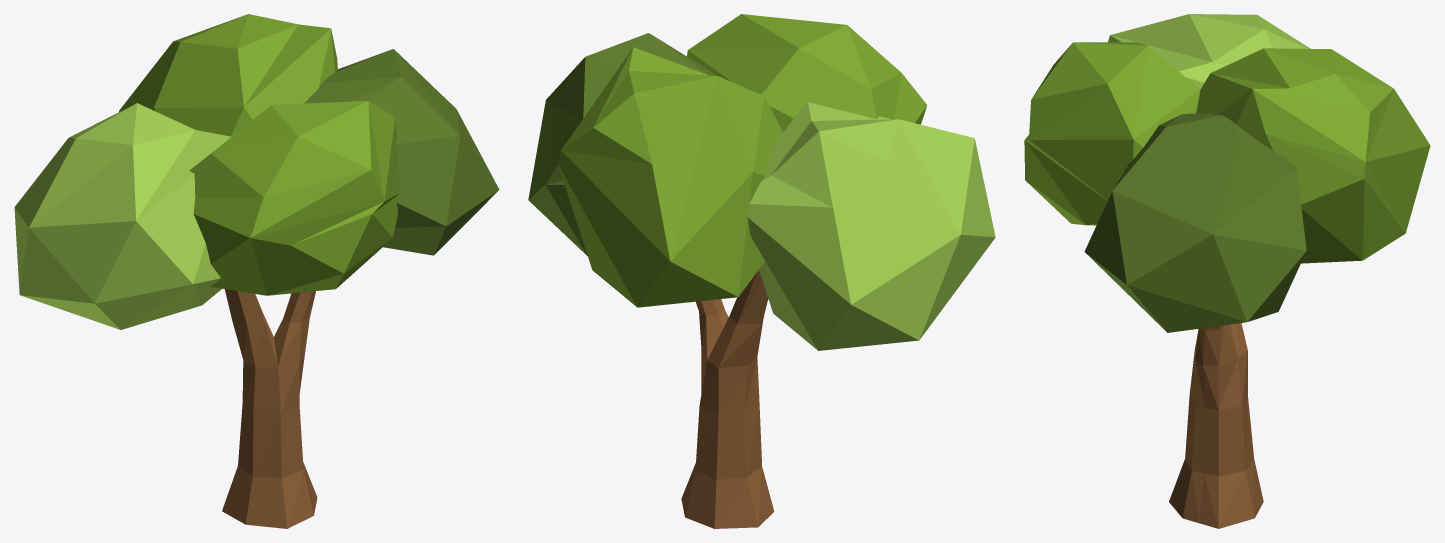
File: Strauch III.fbx
The picture shows the model from 3 angles, left to right: view 1: azimuth 30°, elevation 25°; view 2: azimuth 150°, elevation 25°; view 3: azimuth 270°, elevation 25°; orthographic projection.
Parts seen in each view (by area): view 1: Platonischer_Körper_4, Stamm; view 2: Platonischer_Körper_4, Stamm; view 3: Platonischer_Körper_4, Stamm.
Boxes of the visible parts, bbox=[...] form: Platonischer_Körper_4: bbox=[14, 14, 499, 329]; Stamm: bbox=[222, 289, 317, 528]; Platonischer_Körper_4: bbox=[528, 14, 995, 350]; Stamm: bbox=[681, 270, 774, 528]; Platonischer_Körper_4: bbox=[1024, 14, 1430, 332]; Stamm: bbox=[1169, 323, 1263, 528].
Bounding box in the file's own units: 817 × 839 × 679.
